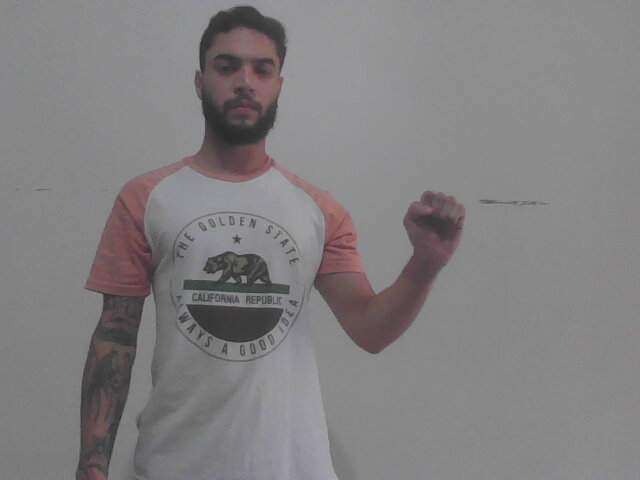s: (397, 184, 472, 273)
